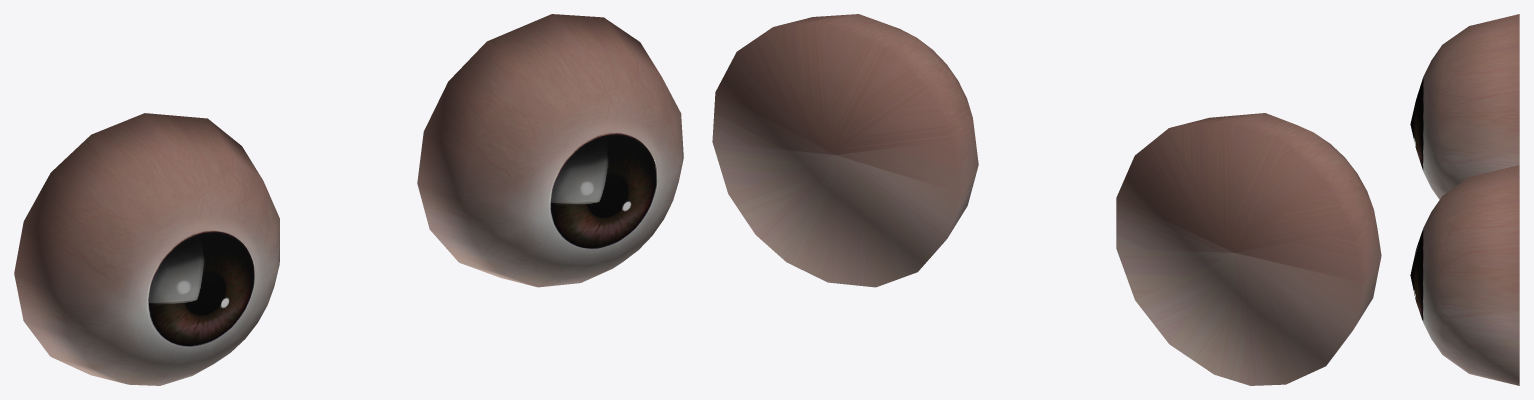
Rendered from eye1.glb.
The picture shows the model from 3 angles, left to right: view 1: azimuth 30°, elevation 25°; view 2: azimuth 150°, elevation 25°; view 3: azimuth 270°, elevation 25°; orthographic projection. The views are drawn at different scales.
Parts seen in each view (by area): view 1: EyeRight, EyeLeft; view 2: EyeLeft, EyeRight; view 3: EyeLeft, EyeRight.
Boxes of the visible parts, x1,y1,x2,y2 form: EyeRight: [14, 113, 279, 385]; EyeLeft: [417, 14, 683, 287]; EyeLeft: [712, 14, 978, 287]; EyeRight: [1116, 113, 1381, 385]; EyeLeft: [1410, 165, 1519, 385]; EyeRight: [1410, 14, 1519, 199].
Bounding box in the file's own units: 0.1023 × 0.0389 × 0.0193.
1 material, 1 textured.
